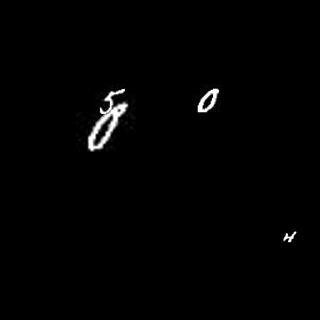eight: (85, 105, 133, 152)
five: (96, 85, 125, 116)
four: (279, 227, 297, 245)
zero: (194, 87, 220, 114)
